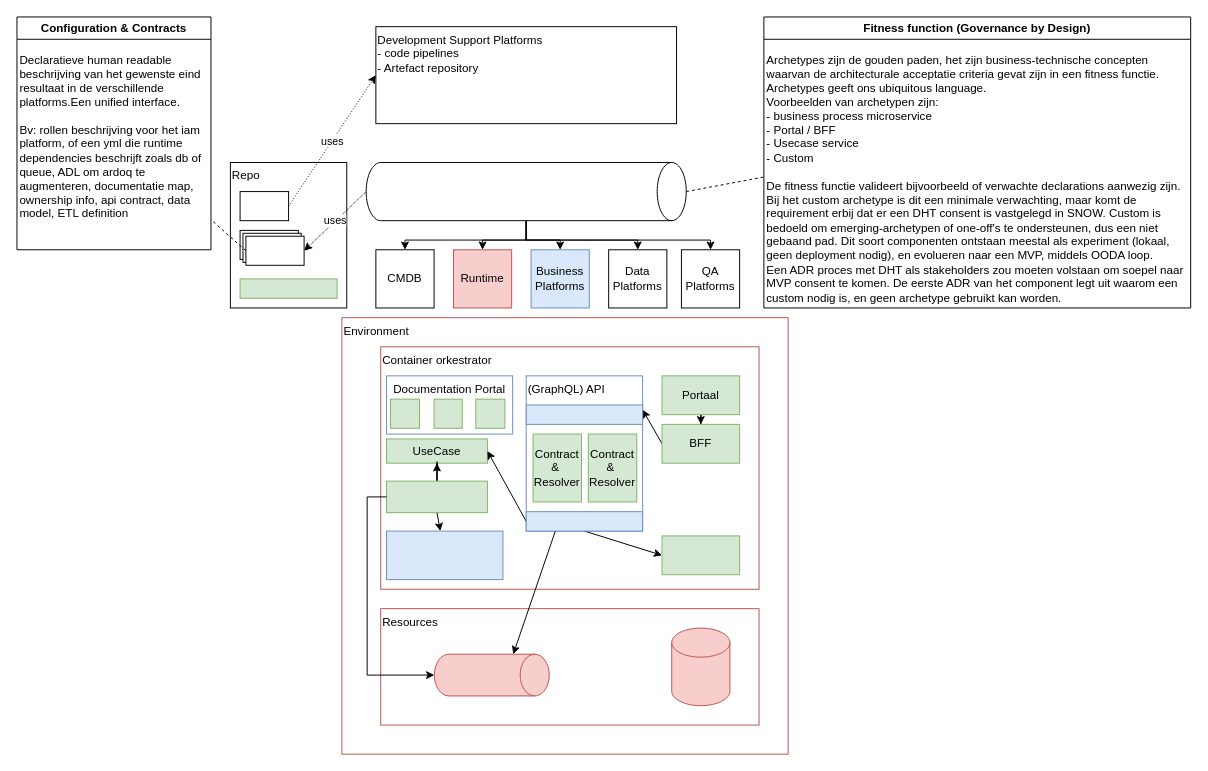
Image size: 1208x771. Some labels were removed from this diagram. The centre of each missing label's shape, as x and y in pixels:
Archetype: point (288, 288)
BPMN: point (436, 496)
Business Orchestration Platform: point (444, 555)
Code: point (264, 206)
Custom: point (700, 555)
DB: point (700, 666)
declarations: point (274, 250)
egress cache: point (584, 521)
ingress: point (584, 414)
Platform Automation Flow: point (525, 191)
Topic: point (491, 674)
